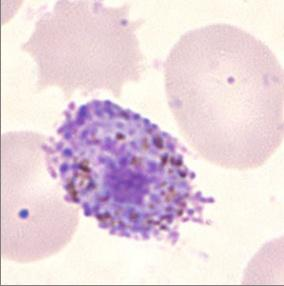Infected: (43, 97, 216, 253)
Uninfected: (166, 23, 284, 170), (18, 0, 151, 101)
